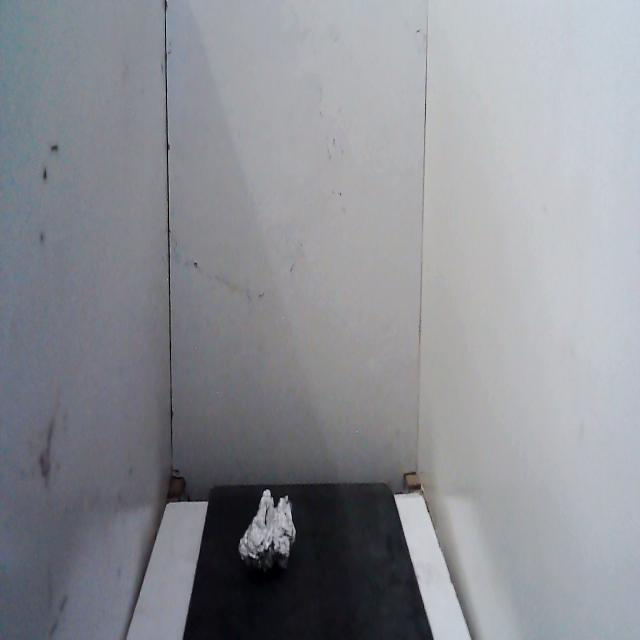metal: (232, 482, 300, 586)
